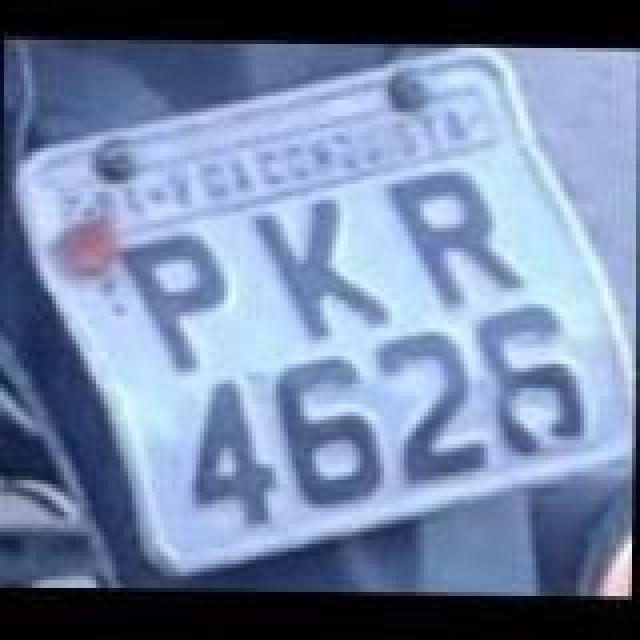2: (374, 330, 498, 490)
4: (186, 384, 286, 540)
6: (468, 298, 596, 462), (266, 348, 390, 516)
K: (242, 194, 394, 350)
P: (114, 230, 250, 390)
R: (386, 170, 534, 314)
